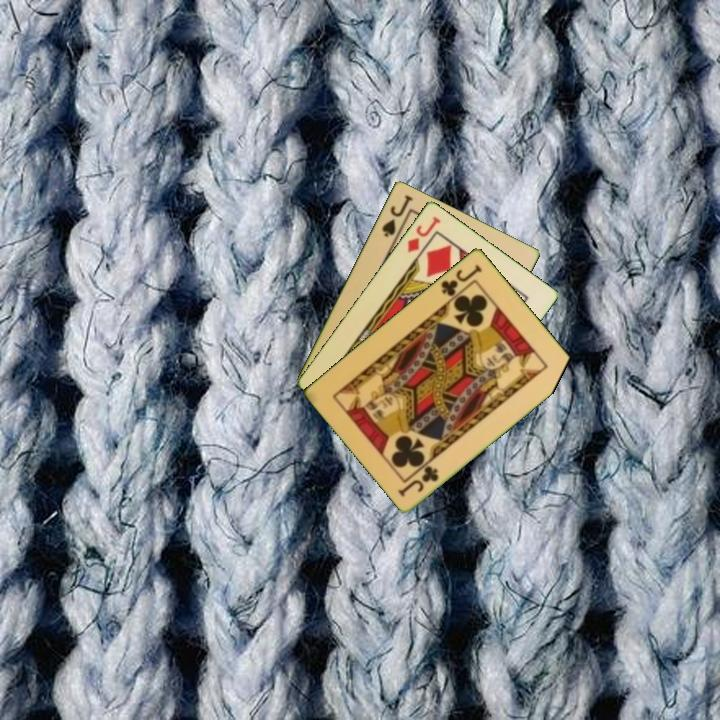Jc: (437, 261, 485, 299), (395, 462, 442, 499)
Jd: (403, 212, 443, 255)
Js: (378, 191, 416, 239)
